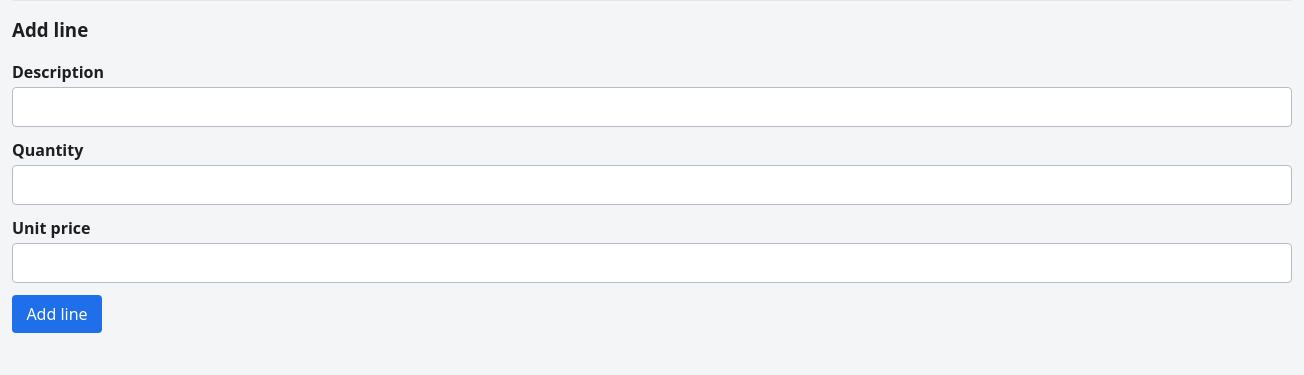
Scenario: T-11 OrderLineForm › rejects unit price
In the field labelled "Description": [652, 107] box [12,87,1292,127], type "Widget"
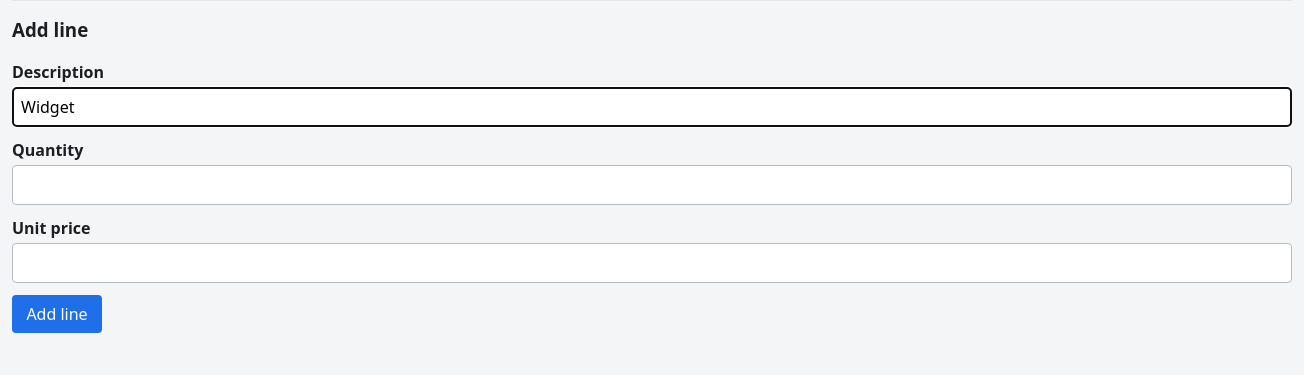
In the field labelled "Quantity": [652, 185] box [12,165,1292,205], type "1"
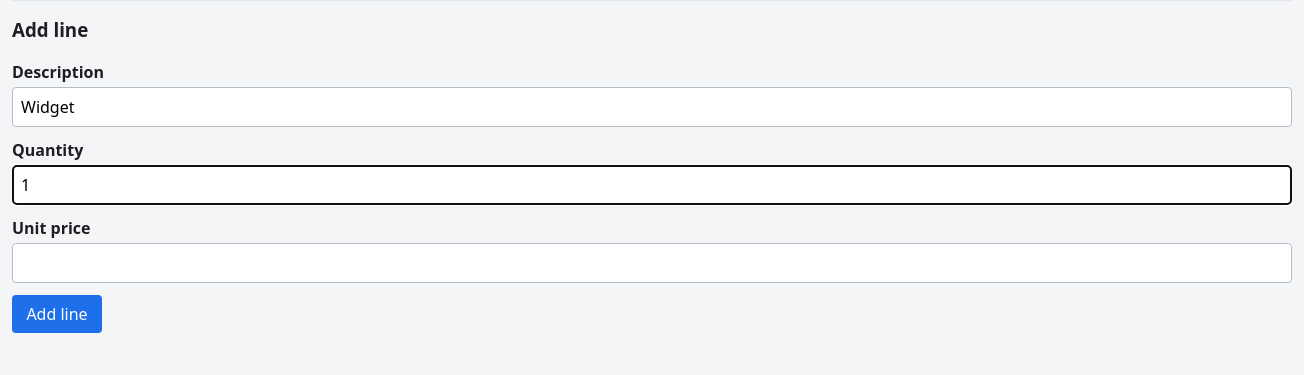
Click the button "Add line": [57, 314] box [12,295,102,333]
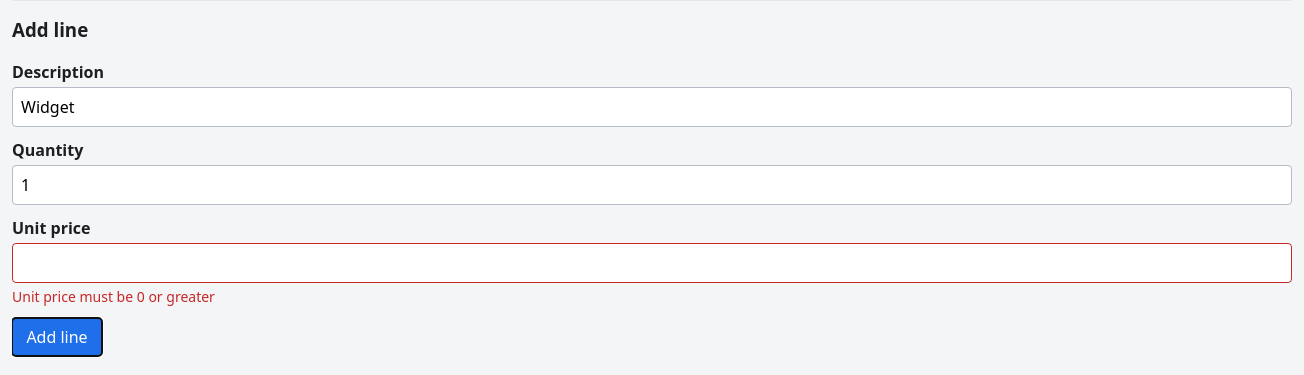
expect the text "Unit price must be 0 or greater" is shown: met, box [12,287,215,306]
